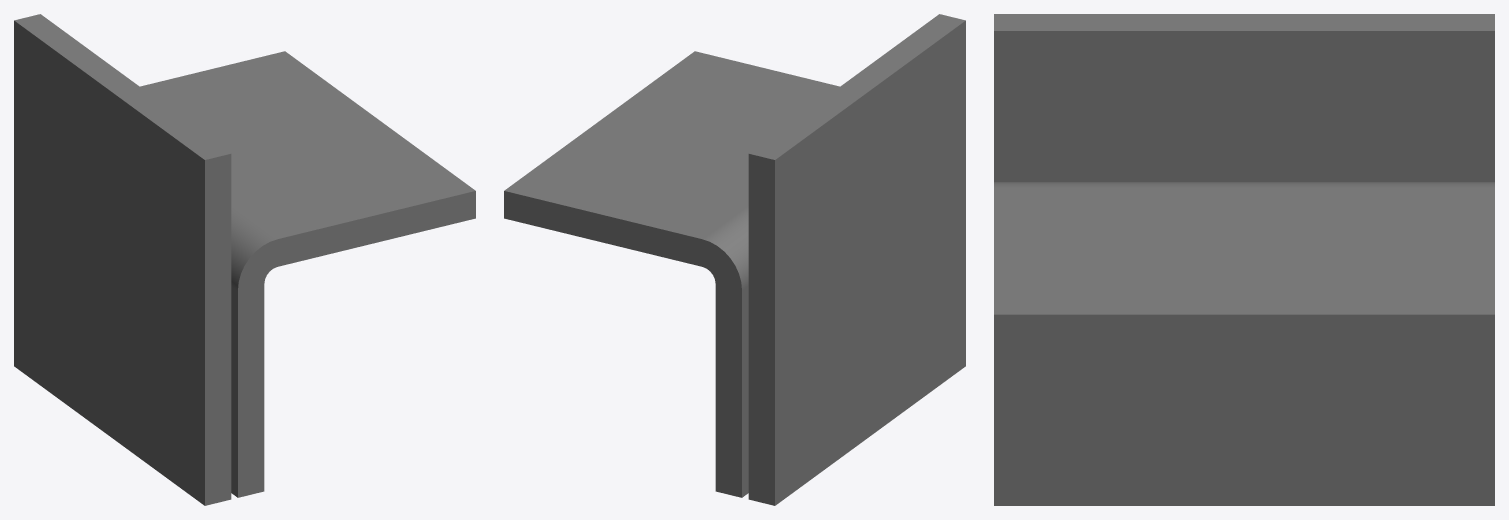
File: У2_Кромки.glb
The picture shows the model from 3 angles, left to right: view 1: azimuth 30°, elevation 25°; view 2: azimuth 150°, elevation 25°; view 3: azimuth 270°, elevation 25°; orthographic projection. The views are drawn at different scales.
Parts seen in each view (by area): view 1: node_id3; view 2: node_id3; view 3: node_id3.
Boxes of the visible parts, <box> form: node_id3: <box>14,14,475,505</box>; node_id3: <box>504,14,965,505</box>; node_id3: <box>994,14,1494,505</box>.
Size of the model in its own units: 0.4198 by 0.512 by 0.512.
Materials: 1 (1 with a texture image).
